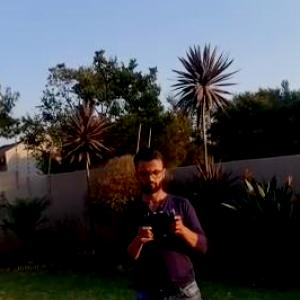follow: (115, 136, 218, 299)
